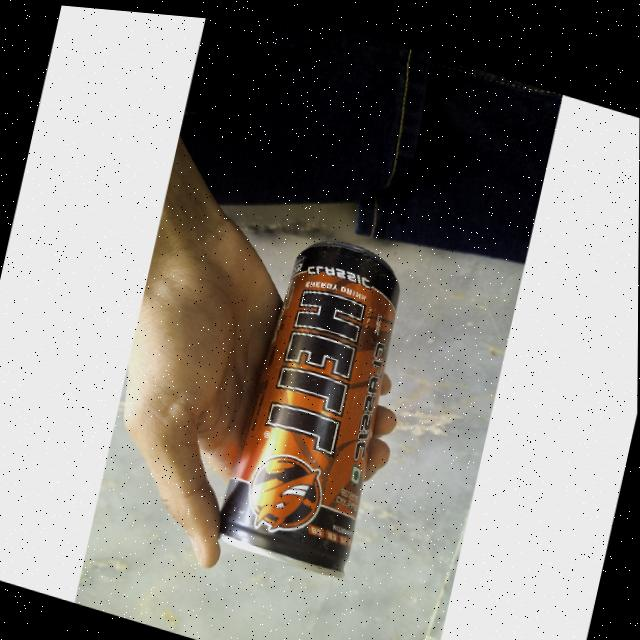Hell Classic: (196, 208, 418, 585)
